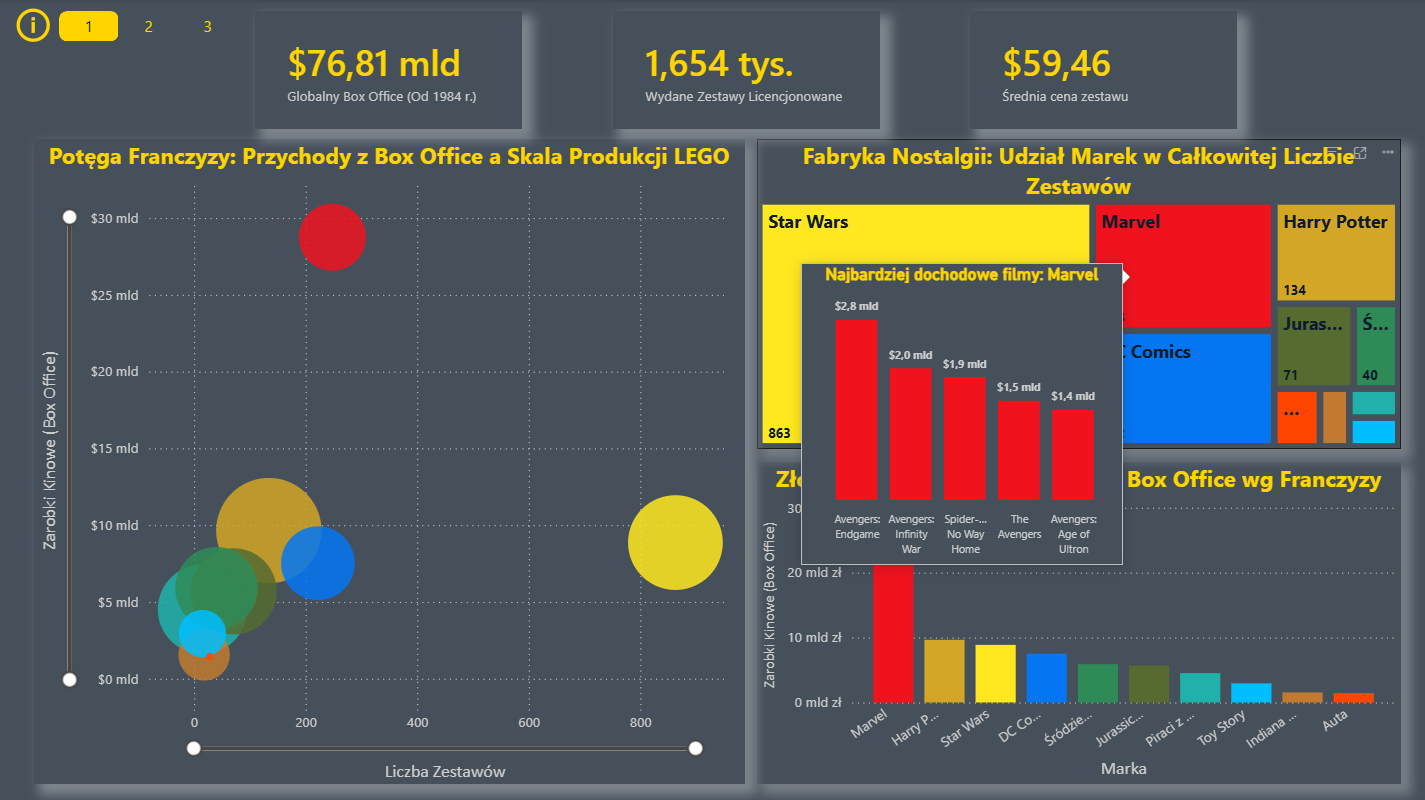

The dashboard page shown, as its layout file describes it:
{"tool":"powerbi","page":{"name":"Starcie Tytanów (Kino vs Fabryki)","canvas":[1280,720],"ordinal":1},"visuals":[{"type":"treemap","title":"Fabryka Nostalgii: Udział Marek w Całkowitej Liczbie Zestawów","fields":{"Group":["Dim_Brands.Marka"],"Values":["_Miary.Liczba Zestawów"]},"box":[679.9,125.5,577.8,278.2],"z":0},{"type":"scatterChart","title":"Potęga Franczyzy: Przychody z Box Office a Skala Produkcji LEGO","fields":{"Category":["Dim_Brands.Marka"],"Series":["Dim_Brands.Marka"],"Y":["_Miary.Zarobki Kinowe (Box Office)"],"X":["_Miary.Liczba Zestawów"],"Size":["_Miary.Średnia Cena Pudełka"]},"box":[30.2,125.5,638.1,578.7],"z":1000},{"type":"actionButton","box":[9.7,3.9,40.9,39.9],"z":2000},{"type":"group","id":"g1","title":"Grupa 1","box":[52.5,10.7,160.5,27.2],"z":3000},{"type":"shape","title":"1","box":[52.5,10.7,53.5,27.2],"z":4000,"group":"g1"},{"type":"cardVisual","title":"Wydane Zestawy Licencjonowane","fields":{"Data":["_Miary.Liczba Zestawów"]},"box":[550,10.7,240.2,106],"z":4000},{"type":"shape","title":"2","box":[106,10.7,53.5,27.2],"z":5000,"group":"g1"},{"type":"cardVisual","fields":{"Data":["_Miary.Zarobki Kinowe (Box Office)"]},"box":[228.6,10.7,240.2,106],"z":5000},{"type":"shape","title":"3","box":[159.5,10.7,53.5,27.2],"z":6000,"group":"g1"},{"type":"columnChart","title":"Złote Kasy Hollywood: Całkowity Box Office wg Franczyzy","fields":{"Category":["Dim_Brands.Marka"],"Y":["_Miary.Zarobki Kinowe (Box Office)"]},"box":[679.9,415.3,577.8,288.9],"z":6000},{"type":"cardVisual","fields":{"Data":["Avg(Fact_LEGO.US_retailPrice)"]},"box":[871,10.7,240.2,106],"z":7000}]}

Visuals, with their boxes in screenshot pixels (x1, y1, x2, y2), scaled from the page's 1280x720 canvas onto the 1425x800 screenshot:
"Fabryka Nostalgii: Udział Marek w Całkowitej Liczbie Zestawów" treemap: 757, 139, 1400, 449
"Potęga Franczyzy: Przychody z Box Office a Skala Produkcji LEGO" scatterChart: 34, 139, 744, 782
actionButton: 11, 4, 56, 49
"Grupa 1" group: 58, 12, 237, 42
"1" shape: 58, 12, 118, 42
"Wydane Zestawy Licencjonowane" cardVisual: 612, 12, 880, 130
"2" shape: 118, 12, 178, 42
cardVisual - _Miary.Zarobki Kinowe (Box Office): 254, 12, 522, 130
"3" shape: 178, 12, 237, 42
"Złote Kasy Hollywood: Całkowity Box Office wg Franczyzy" columnChart: 757, 461, 1400, 782
cardVisual - Avg(Fact_LEGO.US_retailPrice): 970, 12, 1237, 130
